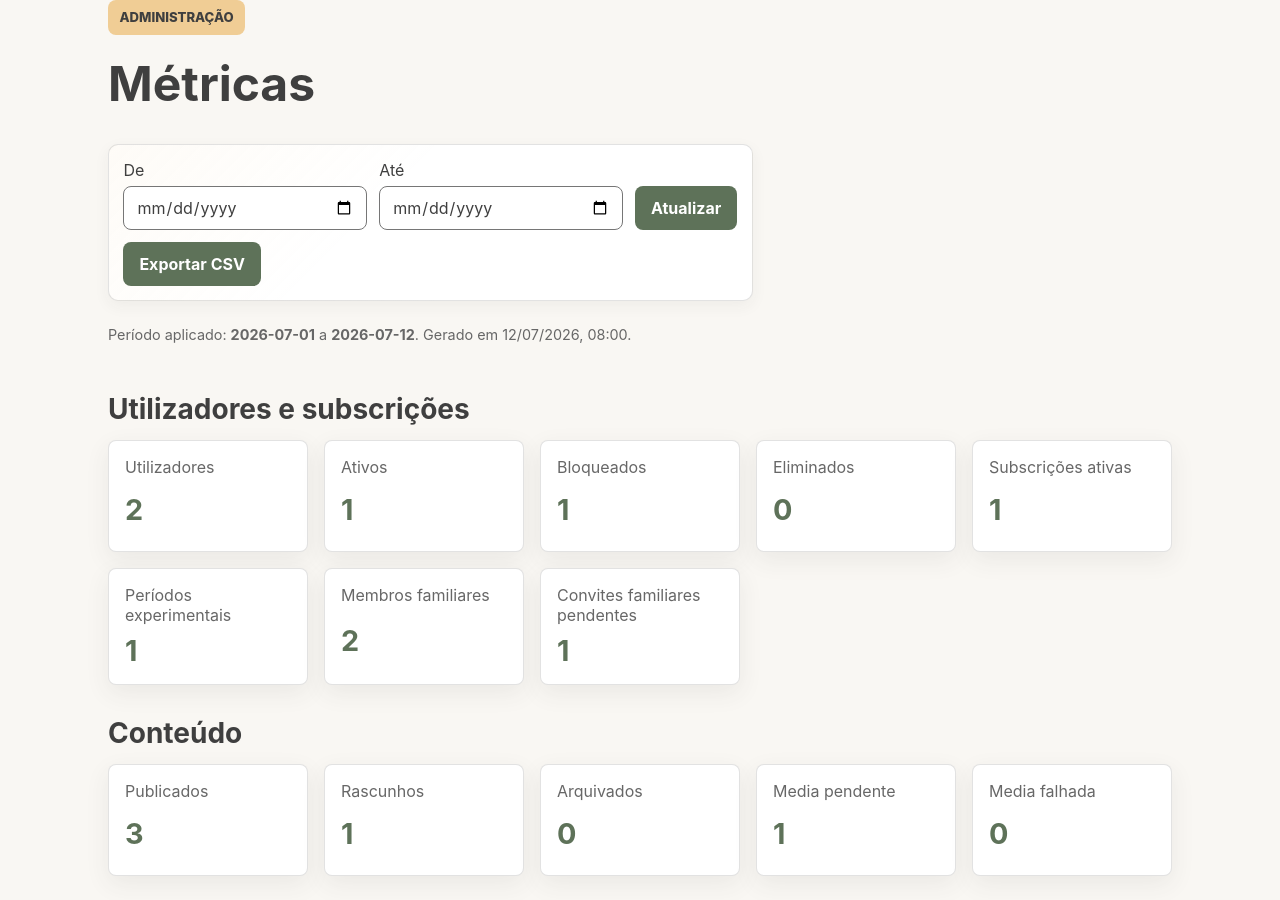
Test: AdminMetricsPage › recusa um intervalo invertido sem pedir novos dados
The width and height of the screenshot is (1280, 900).
Expected: the text "Períodos experimentais" is shown, left=125, top=585, right=231, bottom=625
Type "2026-07-10" into the date field labelled "De". click: (245, 208)
box: left=123, top=186, right=367, bottom=230
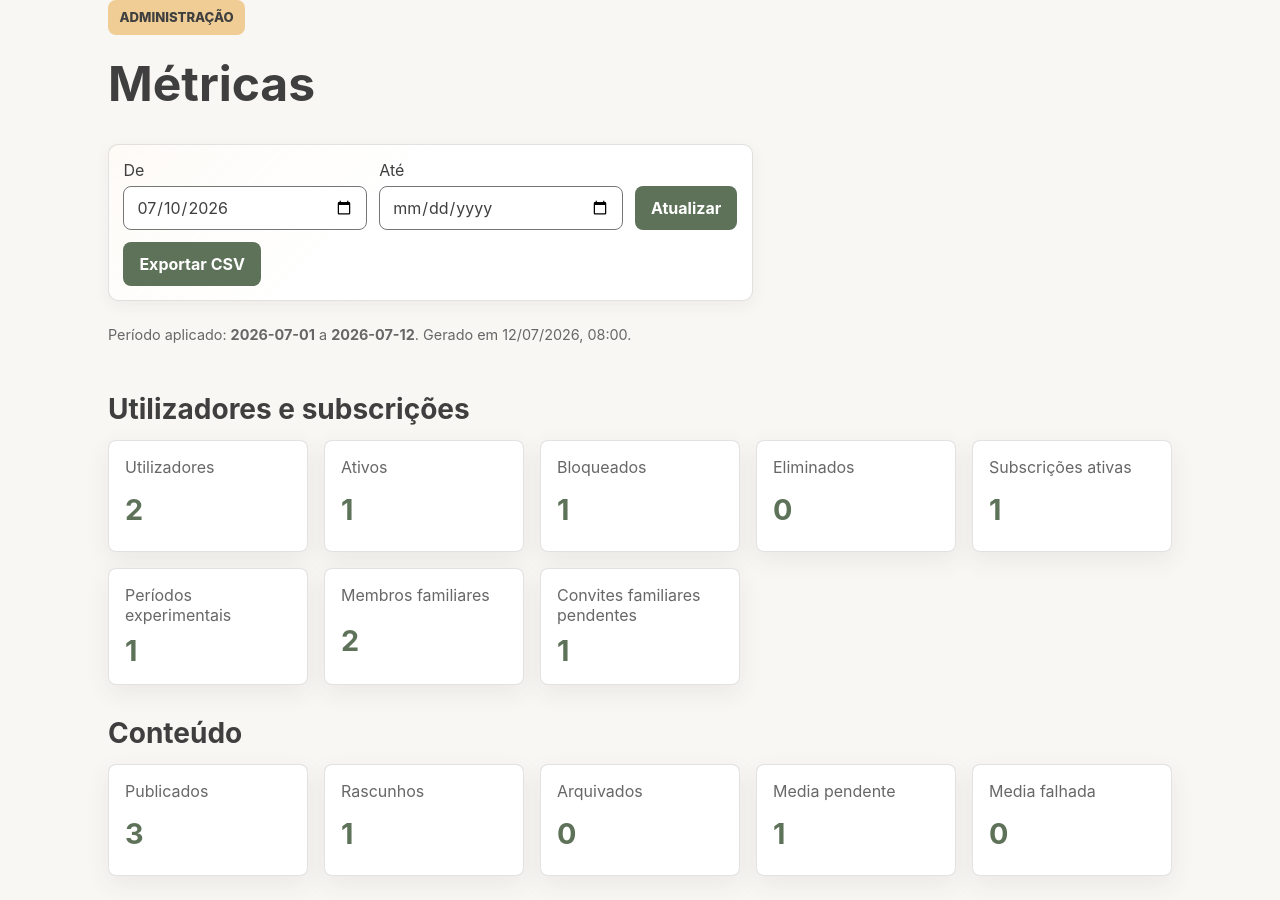
Type "2026-07-01" into the date field labelled "Até". click: (501, 208)
box: left=379, top=186, right=623, bottom=230
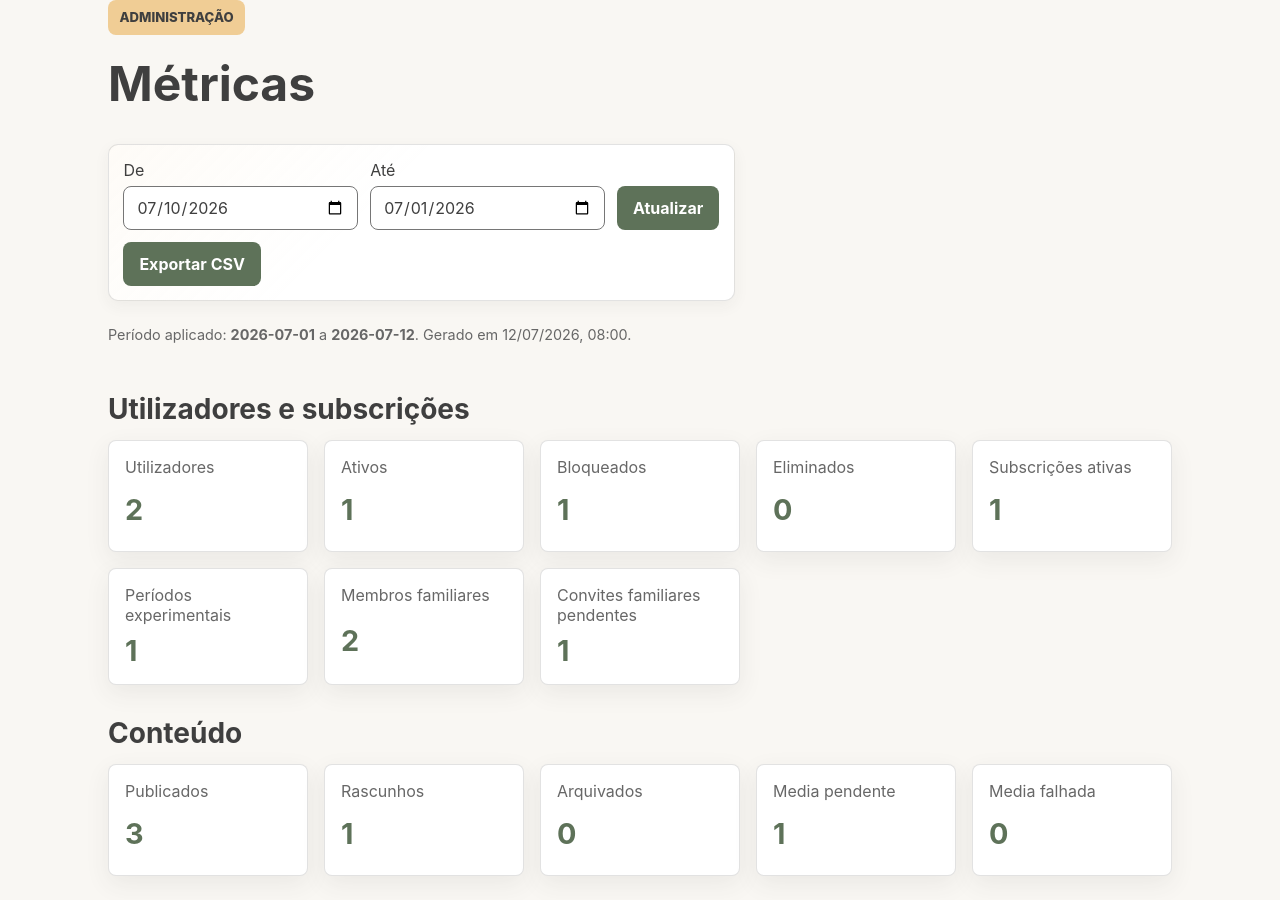
Submit the form "Atualizar", box left=108, top=144, right=735, bottom=302
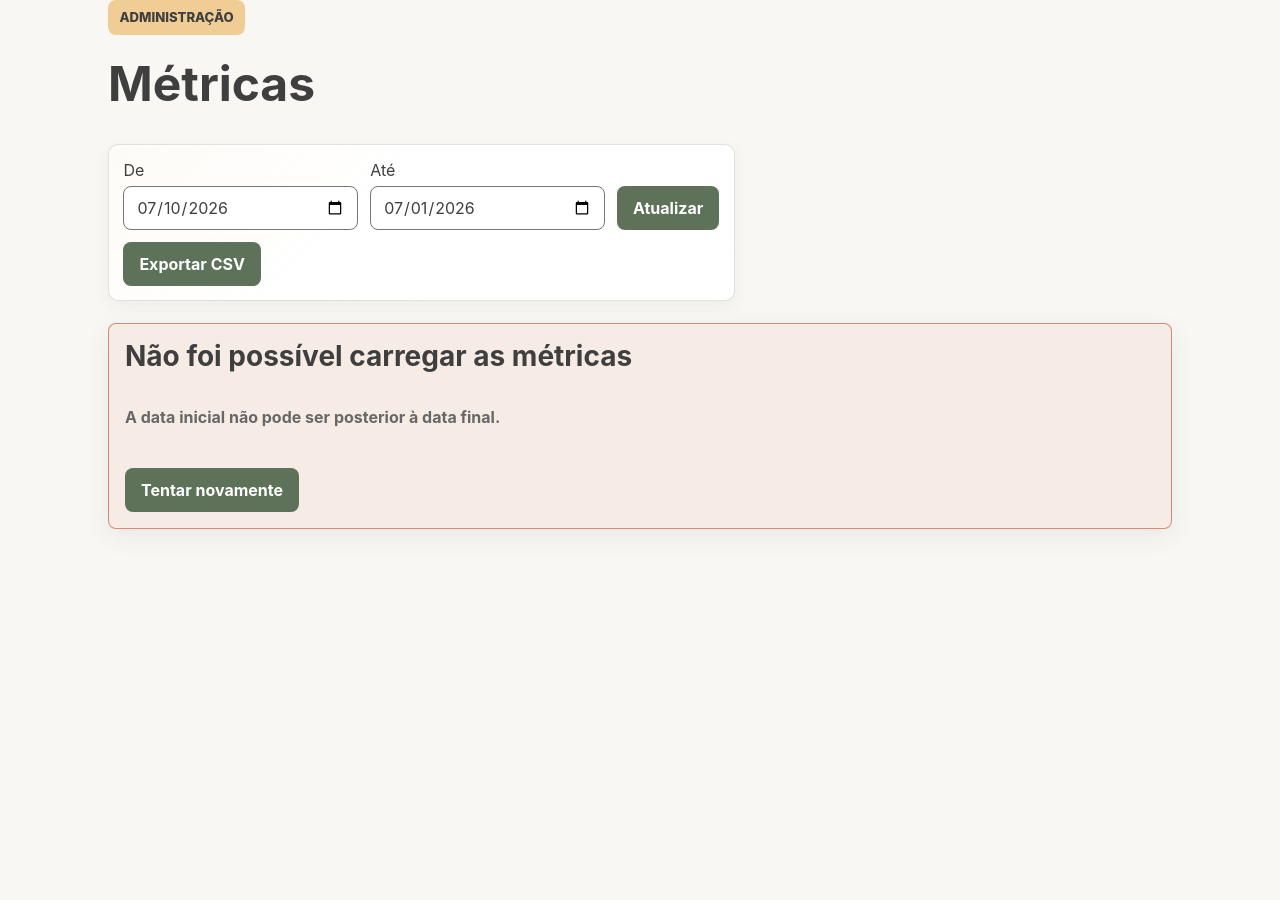
Expected: the message shows "A data inicial não pode ser posterior à data final.", left=125, top=407, right=500, bottom=427
